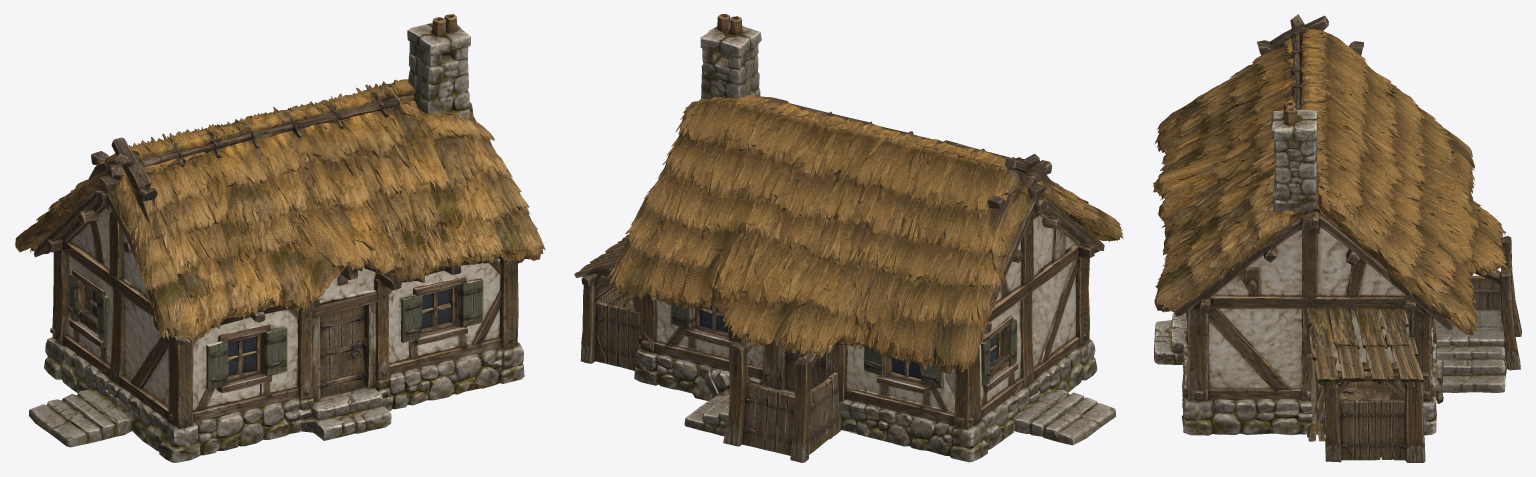
Rendered from farmhouse.glb.
3 renders of one model, left to right at view 1: azimuth 30°, elevation 25°; view 2: azimuth 150°, elevation 25°; view 3: azimuth 270°, elevation 25°, orthographic. The views are drawn at different scales.
Bounding box in the file's own units: 1.9 × 1.24 × 1.31.
1 material, 1 textured.
